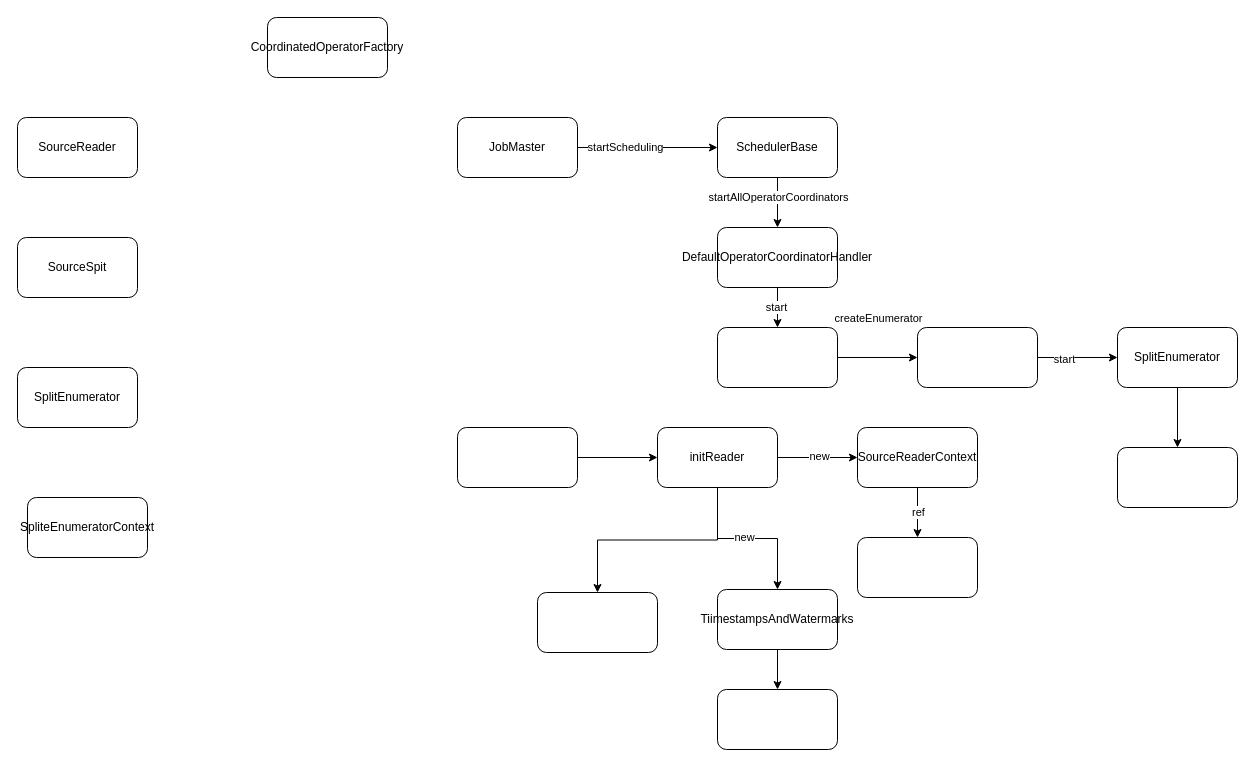
Image size: 1260x767. Some labels were removed from this diagram. The centre of each missing label's shape, as x and y in pixels:
"KafkaSourceEnumerator" goes at point (1177, 477).
"OperatorEventGateway" goes at point (917, 567).
"Source" goes at point (977, 357).
"Source::createReader" goes at point (597, 622).
"SourceCoordinator" goes at point (777, 357).
"SourceOperator.start" goes at point (517, 457).
